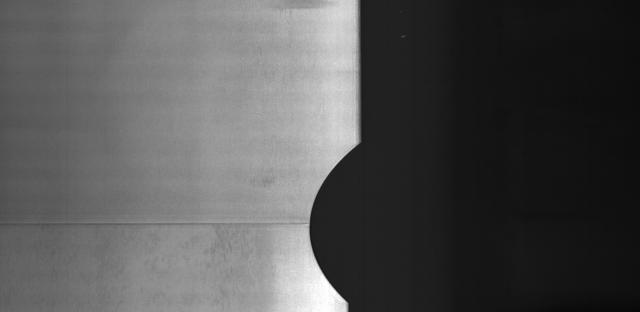crescent_gap: (298, 135, 389, 311)
welding_line: (0, 210, 317, 230)
